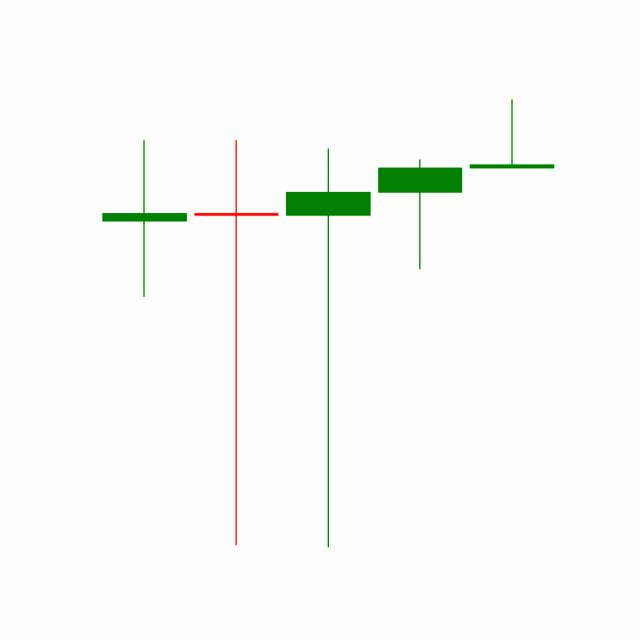Dragonfly Doji: (373, 158, 467, 272)
